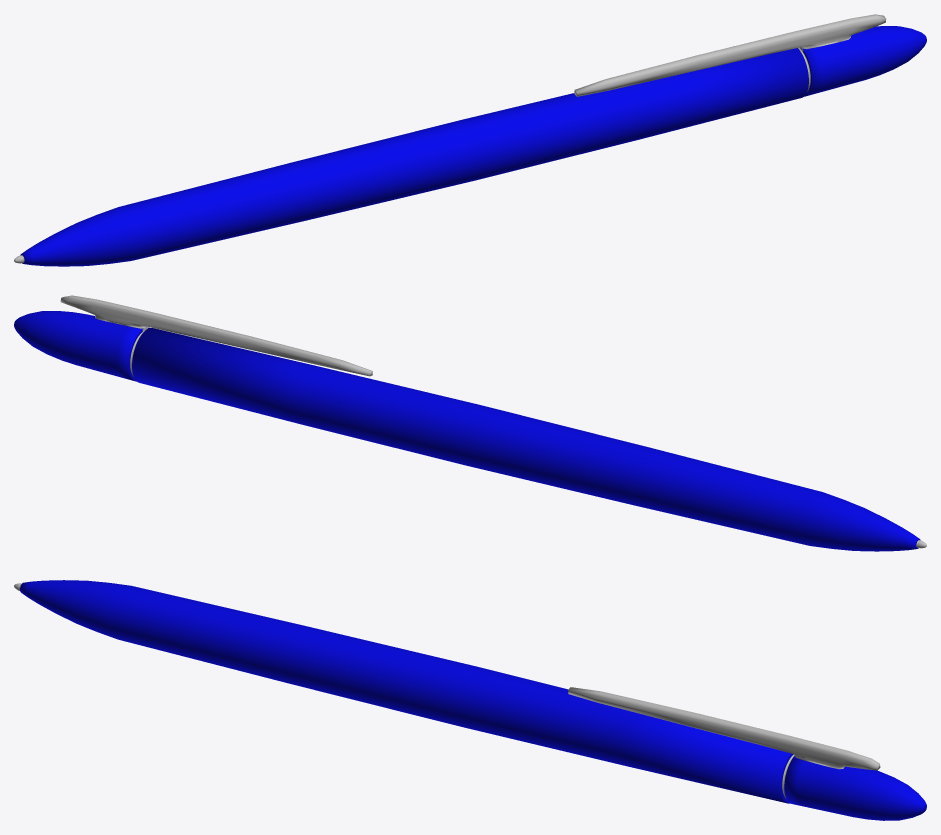
Rendered from Pen.fbx.
The picture shows the model from 3 angles, top to bottom: view 1: azimuth 30°, elevation 25°; view 2: azimuth 150°, elevation 25°; view 3: azimuth 330°, elevation 25°; orthographic projection.
Visible parts, largest first — view 1: Pen; view 2: Pen; view 3: Pen.
Part boxes in pixels (bbox=[...]): Pen: bbox=[14, 14, 926, 266]; Pen: bbox=[14, 295, 926, 551]; Pen: bbox=[14, 580, 926, 820].
Bounding box in the file's own units: 99.58 × 7.25 × 5.89.
